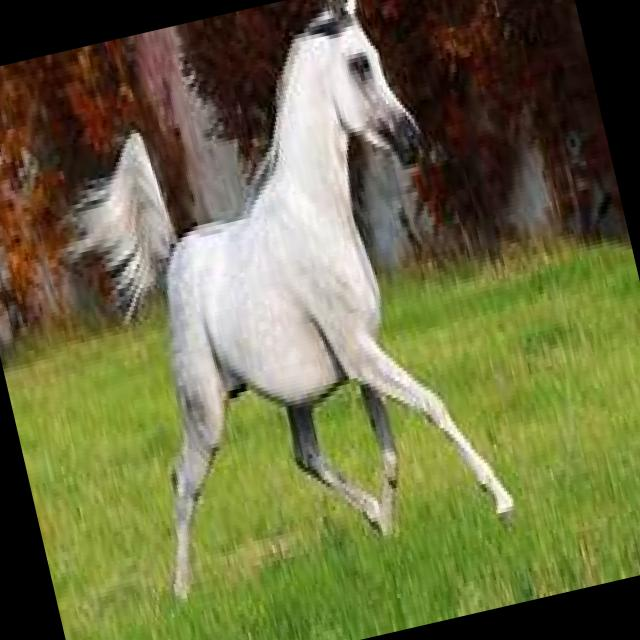animal: (50, 0, 519, 604)
